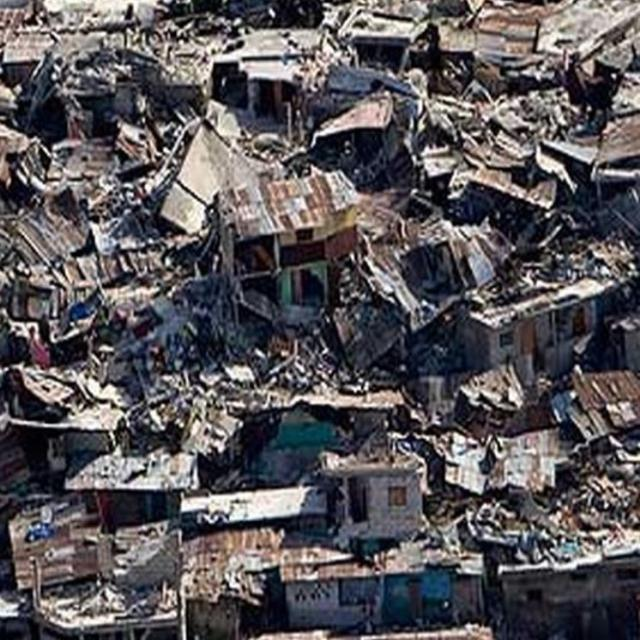collapsed_building: (312, 11, 627, 210), (0, 135, 197, 387), (194, 468, 507, 616), (384, 231, 639, 385), (408, 401, 639, 553), (5, 494, 177, 635), (8, 6, 220, 118), (211, 198, 362, 336)
